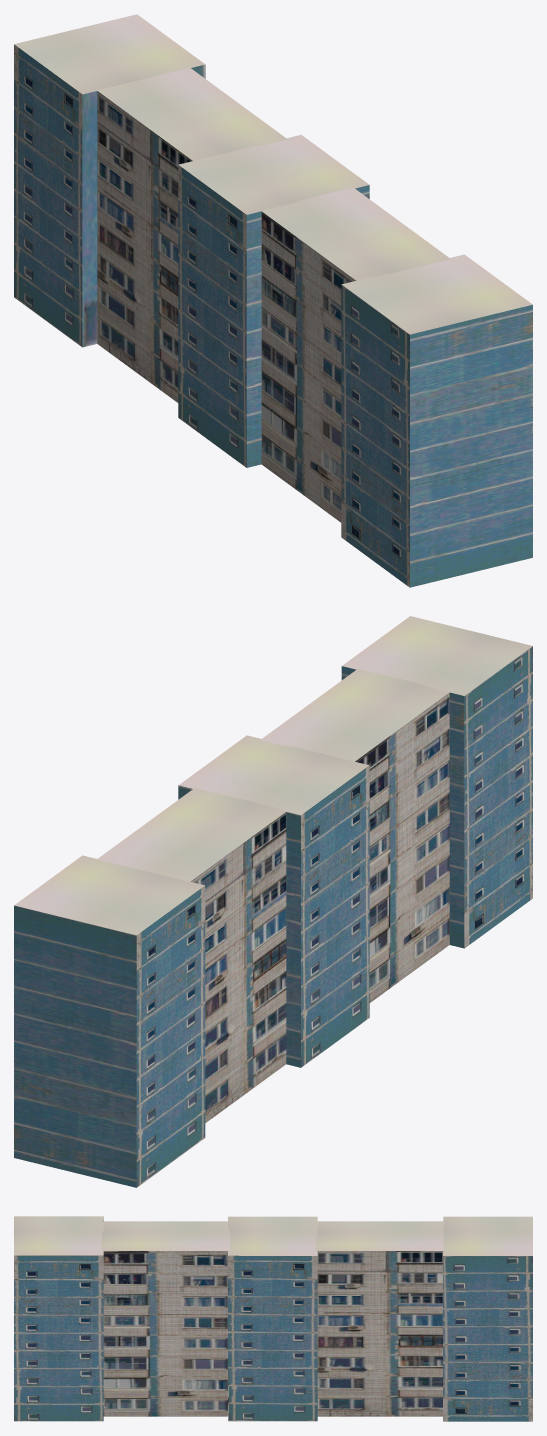
Rendered from house07.glb.
The picture shows the model from 3 angles, top to bottom: view 1: azimuth 30°, elevation 25°; view 2: azimuth 150°, elevation 25°; view 3: azimuth 270°, elevation 25°; orthographic projection. The views are drawn at different scales.
Visible parts, largest first — view 1: house07; view 2: house07; view 3: house07.
Boxes of the visible parts, bbox=[...] form: house07: bbox=[14, 14, 532, 587]; house07: bbox=[14, 616, 532, 1187]; house07: bbox=[14, 1216, 532, 1421].
Bounding box in the file's own units: 2.92 × 5.7 × 16.19.
Materials: 1 (1 with a texture image).
